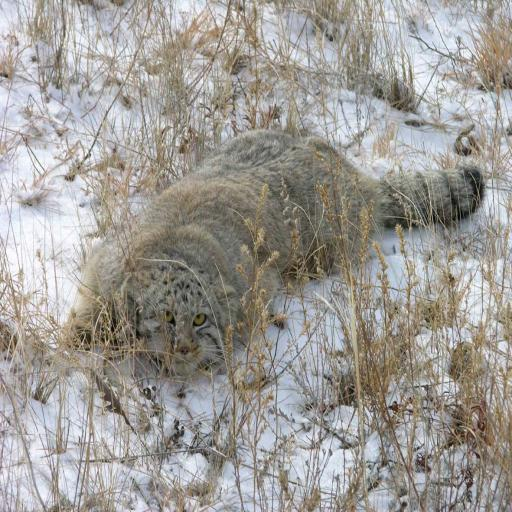manul: (71, 131, 485, 374)
